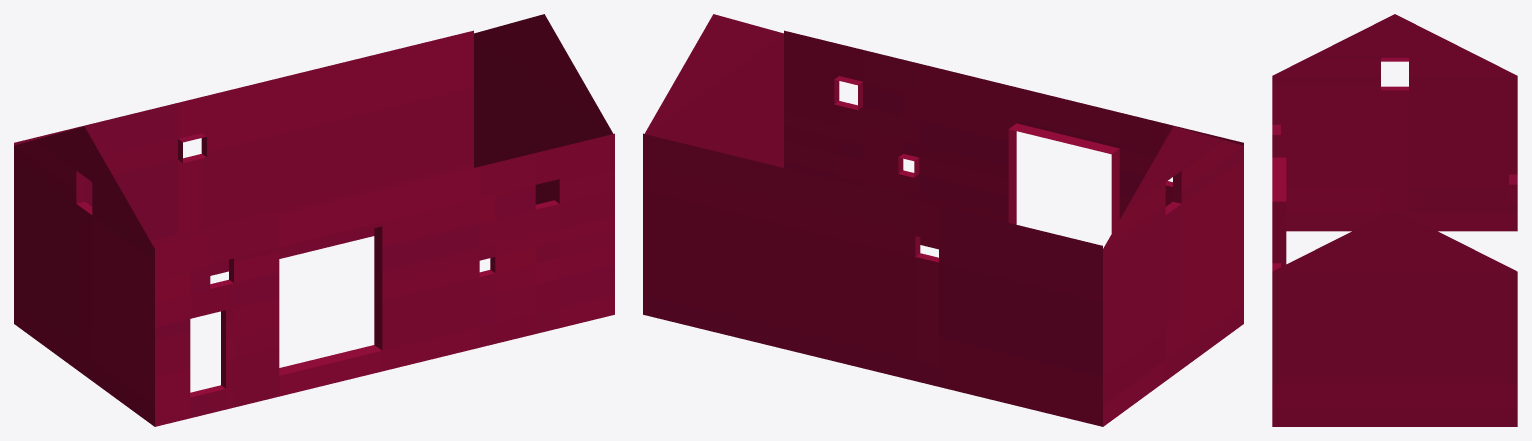
The model's file is SM_Bld_161_Masonry.glb.
3 views of the same model, side by side, from view 1: azimuth 30°, elevation 25°; view 2: azimuth 150°, elevation 25°; view 3: azimuth 270°, elevation 25° (orthographic). The views are drawn at different scales.
Visible parts, largest first — view 1: SM_Bld_161_Masonry; view 2: SM_Bld_161_Masonry; view 3: SM_Bld_161_Masonry.
Part boxes in pixels (<box>): SM_Bld_161_Masonry: <box>14,14,614,426</box>; SM_Bld_161_Masonry: <box>643,14,1243,426</box>; SM_Bld_161_Masonry: <box>1272,14,1517,426</box>.
Size of the model in its own units: 11.62 by 6.01 by 6.16.
